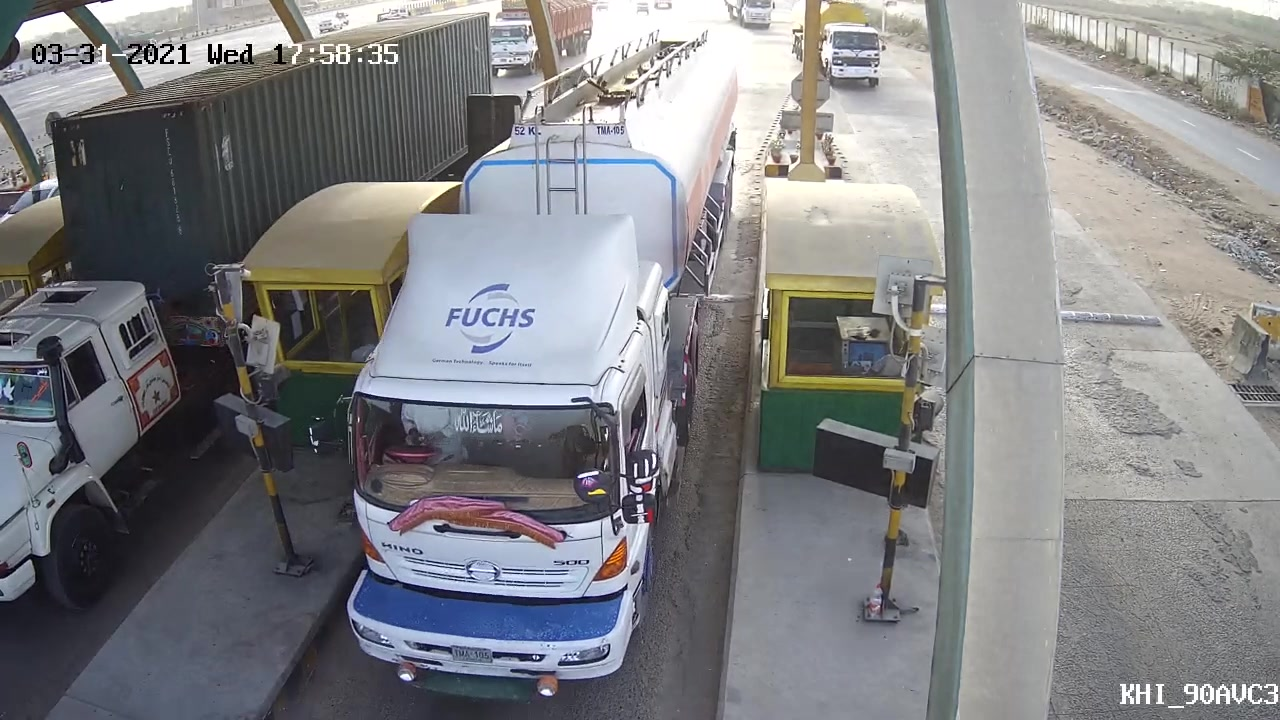F6: (338, 26, 747, 711)
